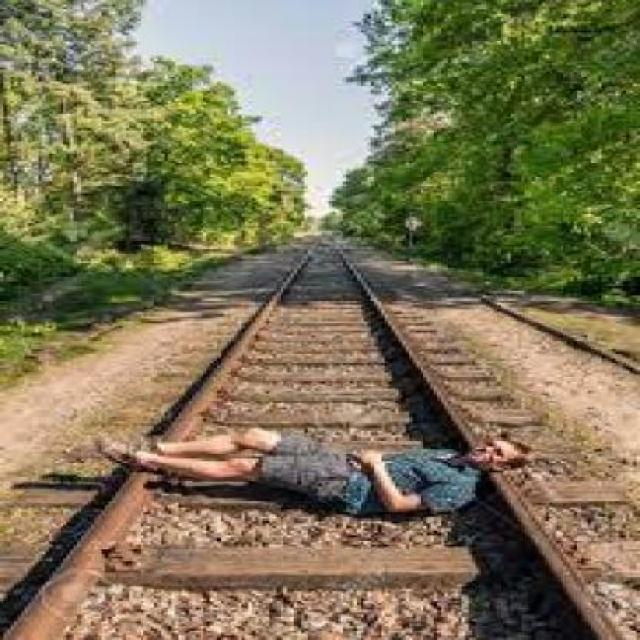danger: (88, 424, 541, 518)
rail: (0, 231, 637, 640)
